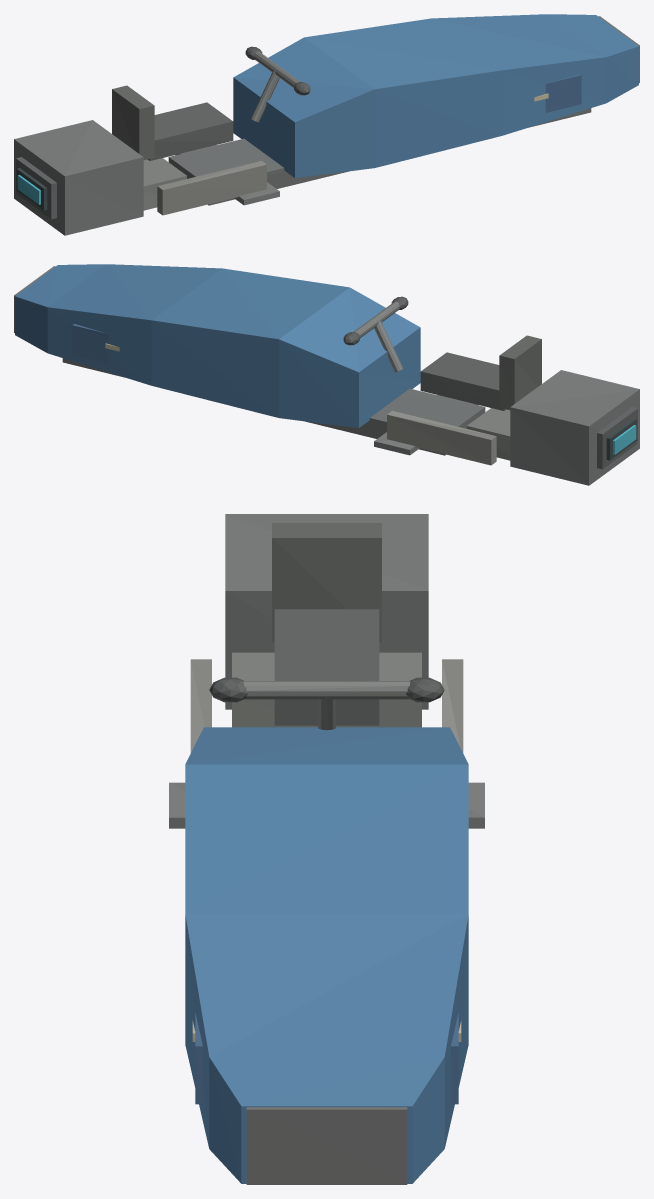
The model's file is spacebike_blue_on.glb.
The picture shows the model from 3 angles, top to bottom: view 1: azimuth 30°, elevation 25°; view 2: azimuth 150°, elevation 25°; view 3: azimuth 270°, elevation 25°; orthographic projection. The views are drawn at different scales.
Visible parts, largest first — view 1: forward_hull, rear_engine_block, cockpit_side_-0.47, seat_base, underside_spine, seat_back, rear_frame, side_panel_-0.47, exhaust_frame, steering_column, handlebars, footrest_-0.47 (+2 smaller); view 2: forward_hull, rear_engine_block, cockpit_side_0.47, seat_base, underside_spine, seat_back, rear_frame, side_panel_0.47, exhaust_frame, steering_column, handlebars, footrest_0.47 (+2 smaller); view 3: forward_hull, rear_engine_block, nose_bulkhead, seat_base, seat_back, rear_frame, handlebars, cockpit_side_-0.47, cockpit_side_0.47.
Part boxes in pixels (x1,y1,x2,y2): forward_hull: (233, 14, 638, 177); rear_engine_block: (14, 120, 143, 235); cockpit_side_-0.47: (157, 161, 266, 215); seat_base: (147, 102, 233, 160); underside_spine: (168, 108, 591, 205); seat_back: (112, 85, 154, 159); rear_frame: (143, 158, 186, 210); side_panel_-0.47: (545, 74, 581, 112); exhaust_frame: (16, 157, 56, 219); steering_column: (250, 70, 279, 122); handlebars: (254, 51, 300, 87); footrest_-0.47: (234, 182, 279, 205); forward_hull: (15, 264, 420, 427); rear_engine_block: (510, 370, 639, 485); cockpit_side_0.47: (387, 411, 496, 465); seat_base: (420, 352, 506, 410); underside_spine: (62, 358, 485, 455); seat_back: (499, 335, 541, 409); rear_frame: (467, 408, 510, 460); side_panel_0.47: (72, 324, 108, 362); exhaust_frame: (597, 407, 637, 469); steering_column: (374, 320, 403, 372); handlebars: (353, 301, 399, 337); footrest_0.47: (374, 432, 419, 455); forward_hull: (185, 727, 468, 1183); rear_engine_block: (225, 514, 428, 709); nose_bulkhead: (246, 1107, 407, 1184); seat_base: (274, 609, 379, 725); seat_back: (272, 523, 381, 641); rear_frame: (232, 652, 421, 727); handlebars: (243, 681, 410, 699); cockpit_side_-0.47: (190, 659, 211, 752); cockpit_side_0.47: (442, 659, 463, 752).
Bounding box in the file's own units: 5.11 × 0.885 × 1.18.
